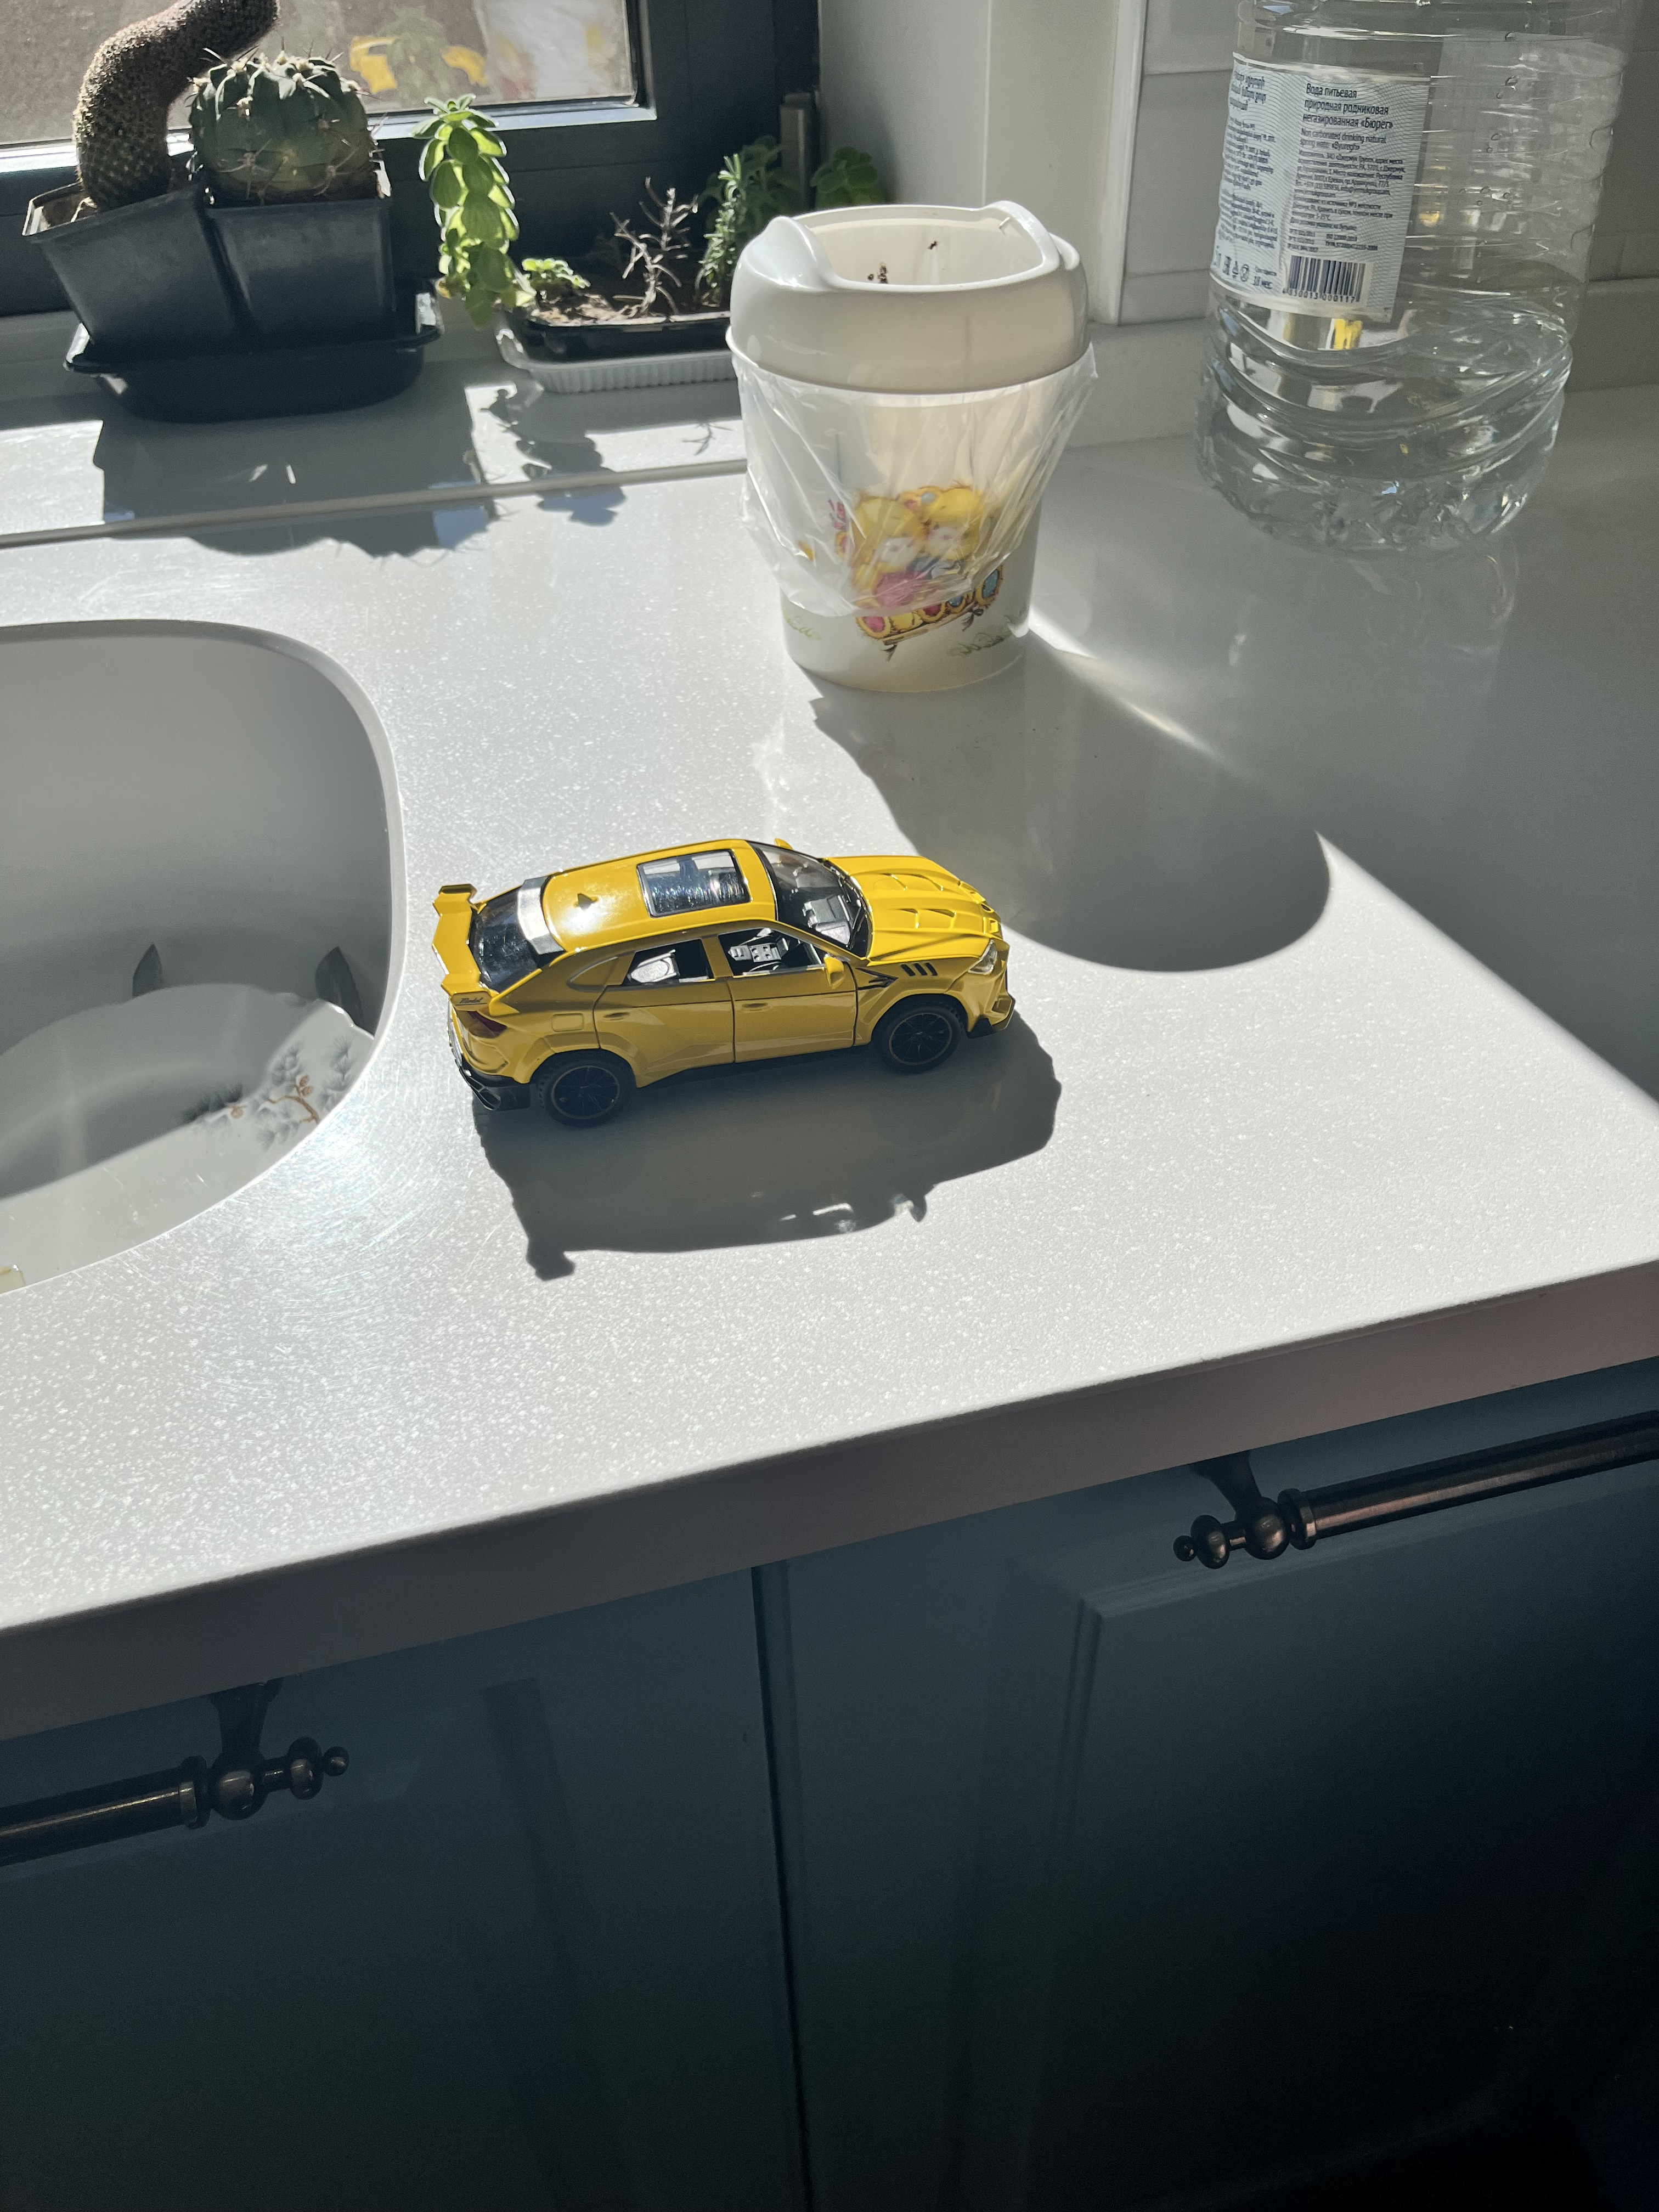lambo: (432, 834, 1016, 1129)
